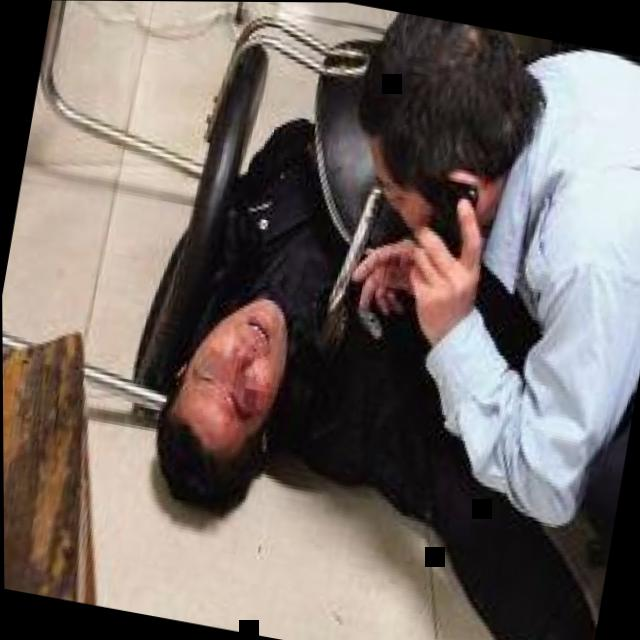Fall-Detected: (95, 65, 640, 640)
